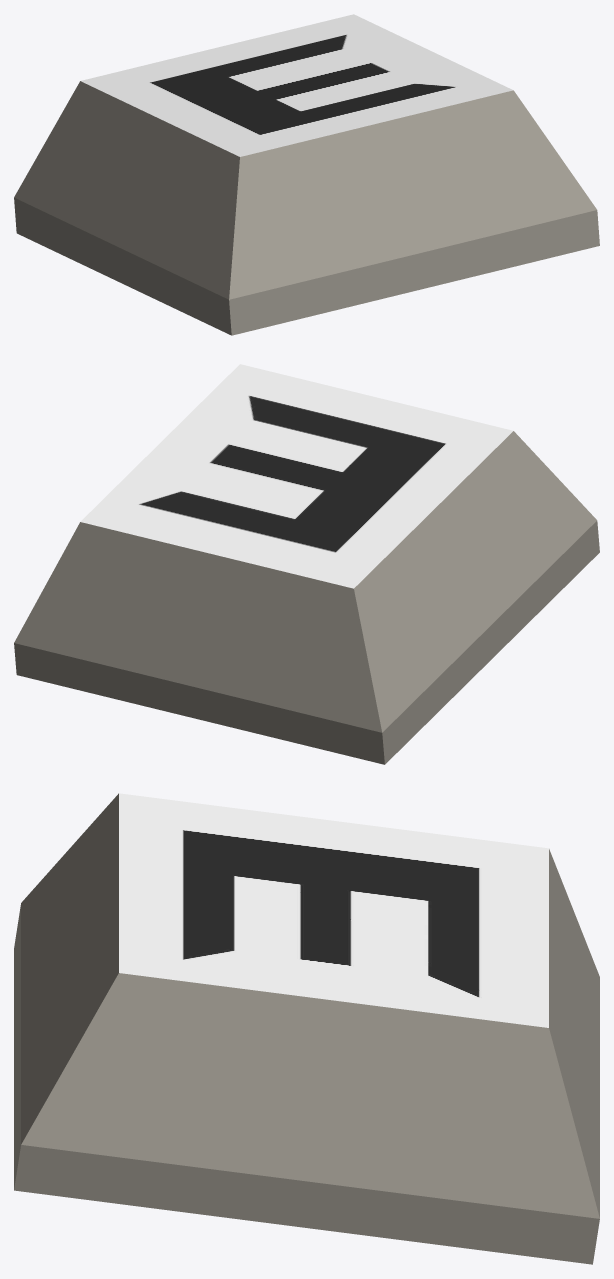
File: key3.glb
3 renders of one model, top to bottom at view 1: azimuth 30°, elevation 25°; view 2: azimuth 150°, elevation 25°; view 3: azimuth 270°, elevation 25°, orthographic. The views are drawn at different scales.
Parts seen in each view (by area): view 1: Cube.008; view 2: Cube.008; view 3: Cube.008.
Part boxes in pixels (x1,y1,x2,y2): Cube.008: (14,14,599,335); Cube.008: (14,364,599,764); Cube.008: (14,793,599,1264).
Size of the model in its own units: 0.1926 by 0.0968 by 0.1972.
Materials: 2 (1 with a texture image).
